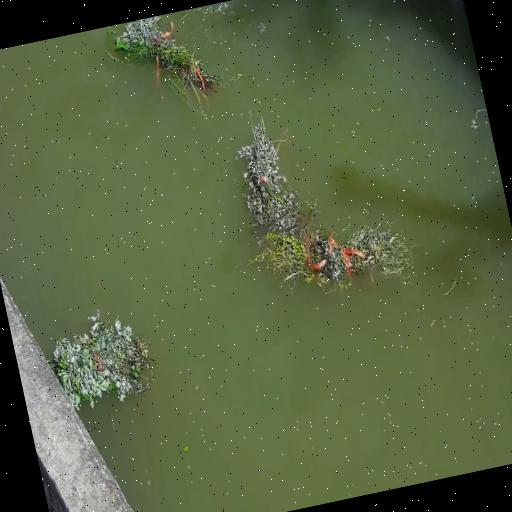twig: (248, 204, 412, 306), (42, 300, 160, 416), (111, 6, 226, 118), (226, 102, 308, 242)
